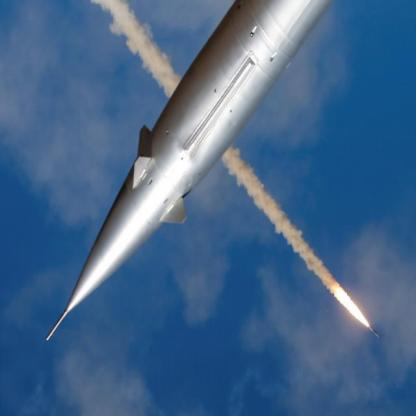MIL_TBM: (365, 322, 384, 344)
